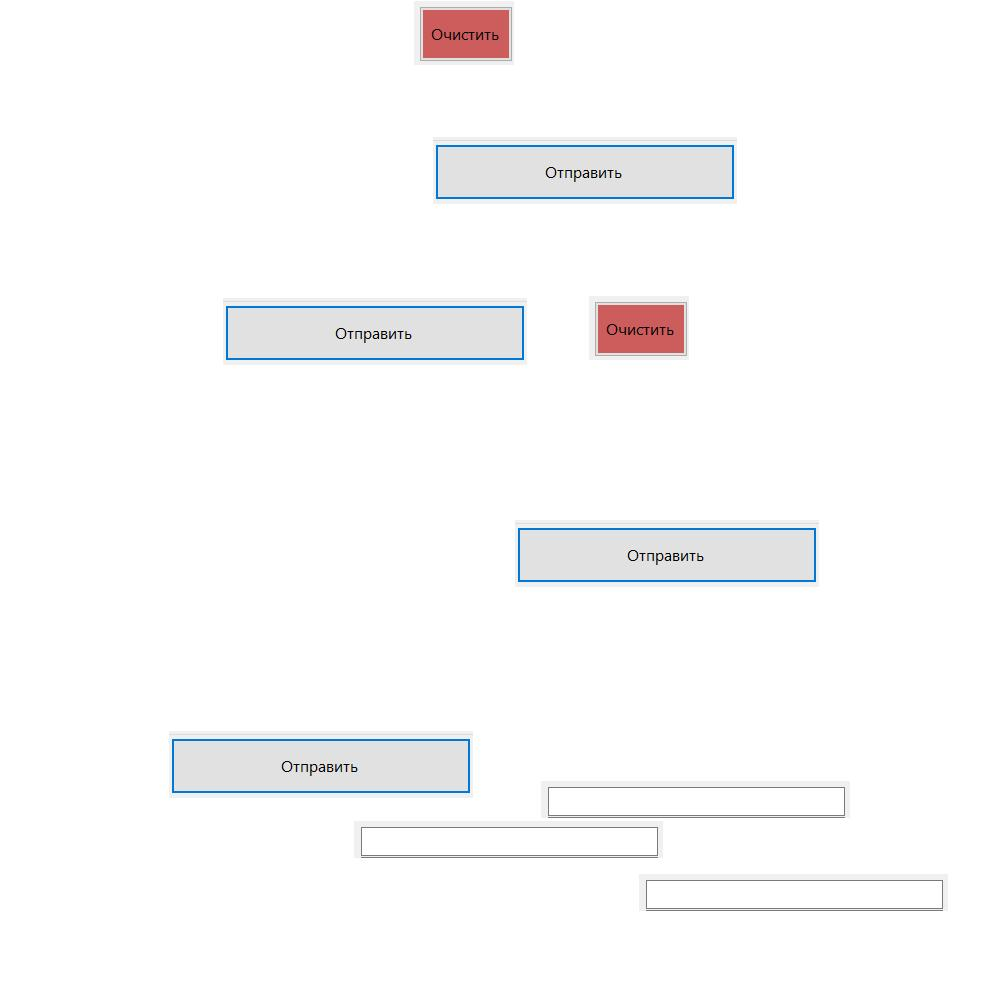Button: (433, 137, 737, 204), (169, 731, 473, 798), (515, 520, 819, 587), (223, 298, 527, 365), (414, 1, 514, 65), (589, 296, 689, 360)
EditText-: (541, 781, 850, 818), (639, 874, 948, 911), (354, 821, 663, 858)
